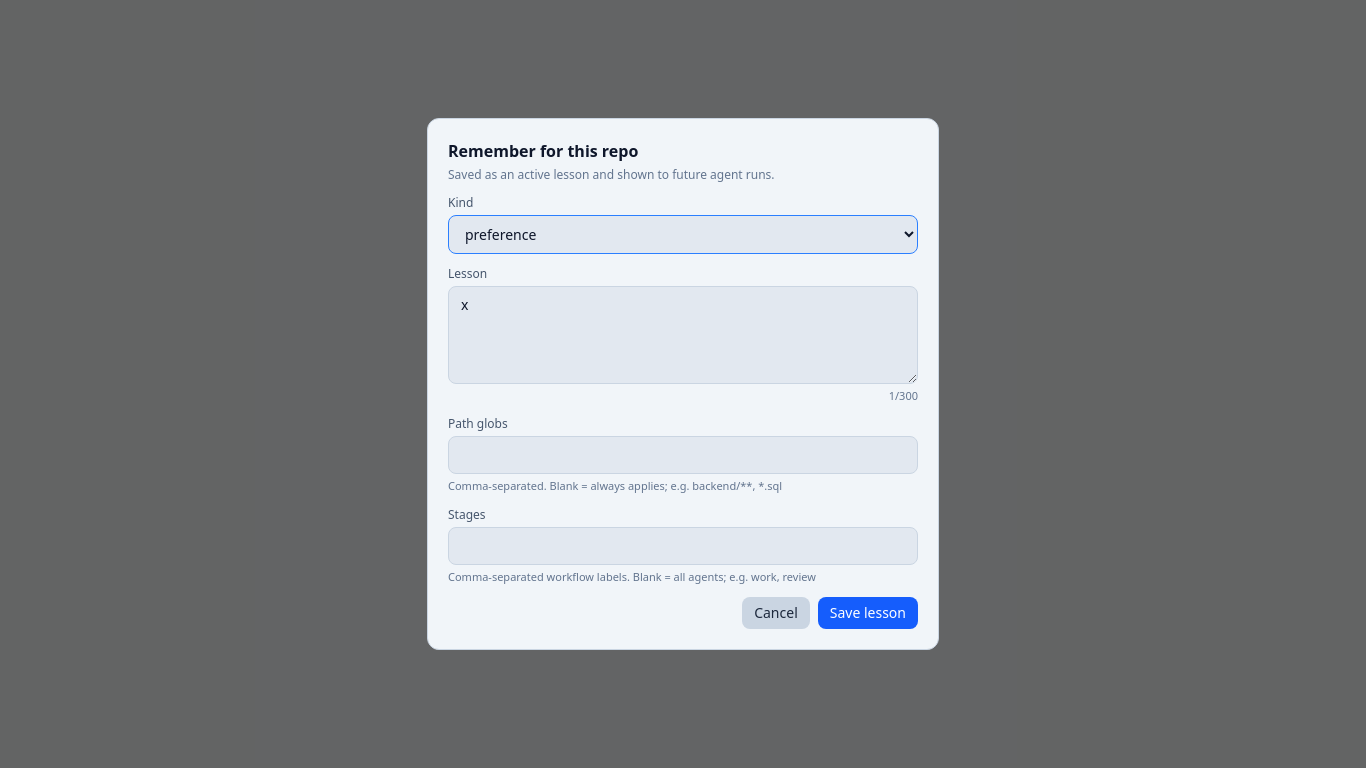
Test: RememberLessonModal › shows errors inline and stays open
Click the button "Save lesson".
click(868, 613)  # box [818,597,918,629]
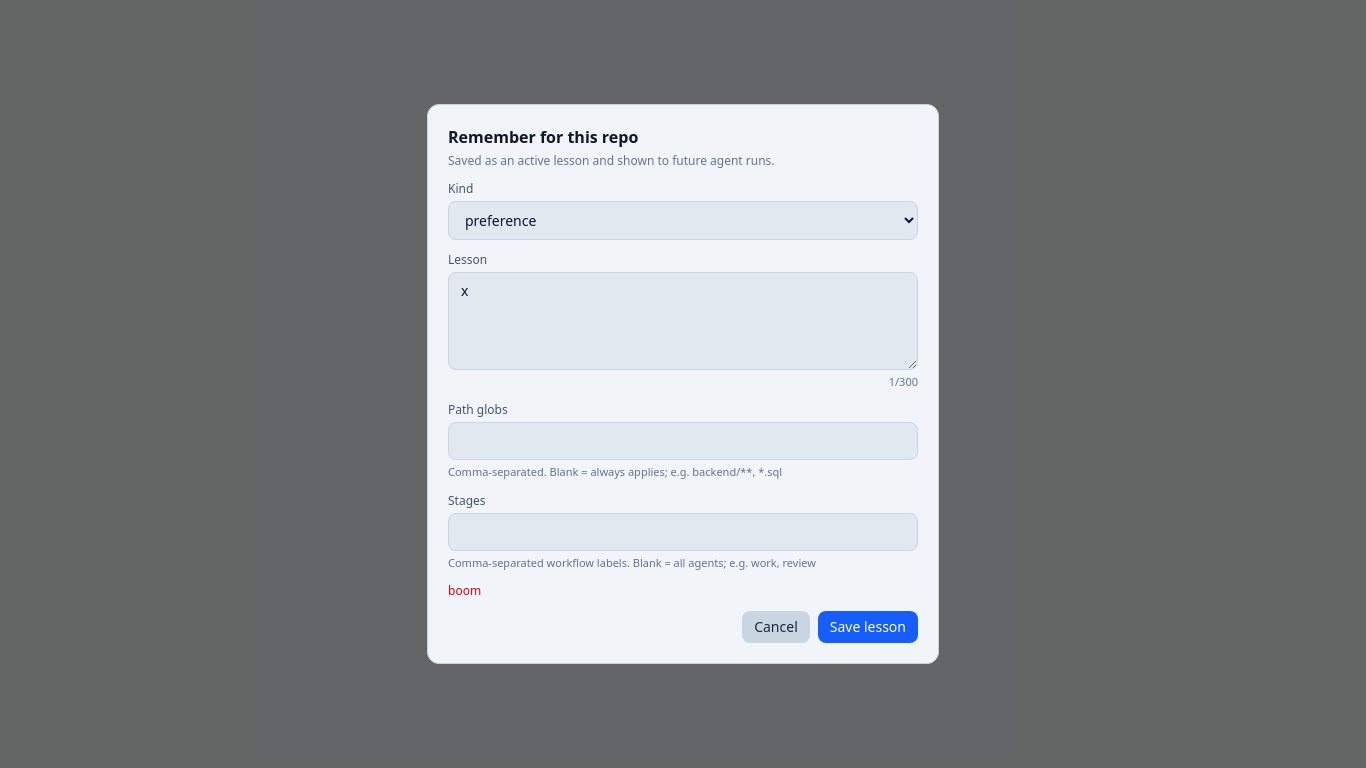
Now the message reads "boom", box [448,582,481,599]
